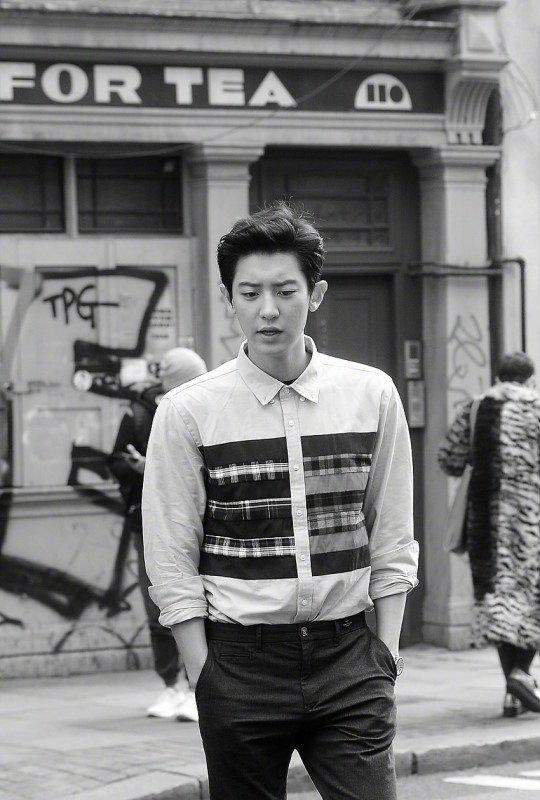other: (144, 198, 433, 796)
